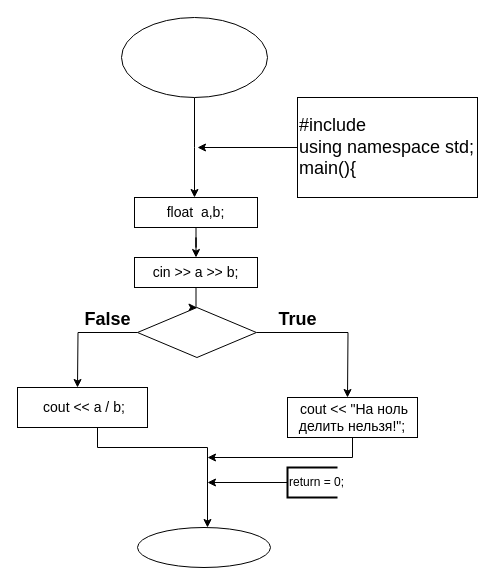
This 495x585 diagram has some shape labels left out. Here are the shapes that lost their labels. From the top down, the centre of each, then its label:
At pixel 194 57: "начало".
At pixel 196 332: "if (b == 0)".
At pixel 203 547: "конец".
